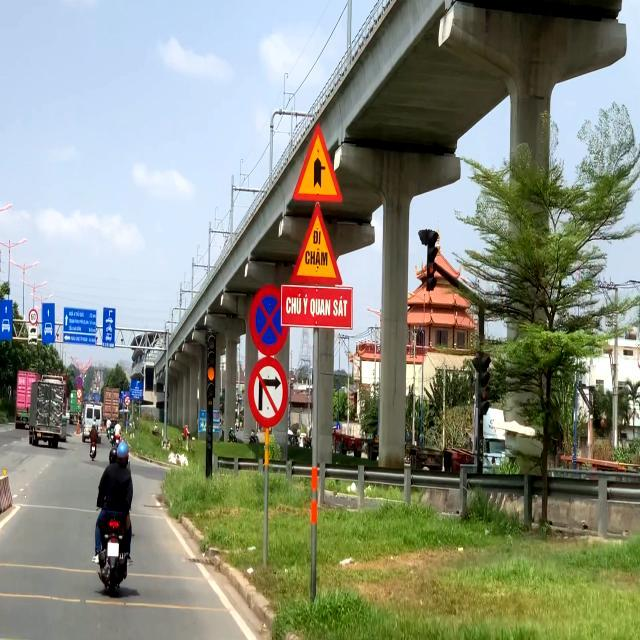Cam dung xe va do xe: (250, 284, 290, 356), (76, 376, 83, 388)
Cam re phai: (248, 356, 289, 429)
Di cham: (290, 202, 344, 287)
Giao nhau voi duong khong uu tien ben phai: (291, 120, 344, 202)
Toc do toi da cho phep: (28, 308, 38, 326)
